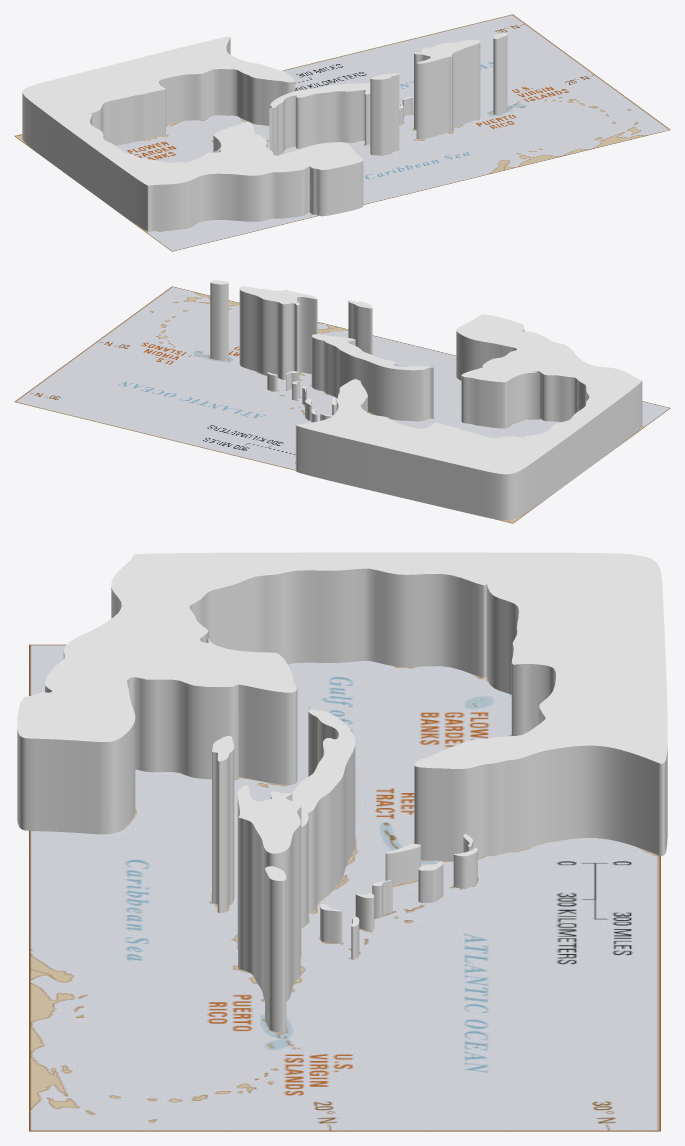
The model's file is Level design model 1.fbx.
The picture shows the model from 3 angles, top to bottom: view 1: azimuth 30°, elevation 25°; view 2: azimuth 150°, elevation 25°; view 3: azimuth 270°, elevation 25°; orthographic projection. The views are drawn at different scales.
Parts seen in each view (by area): view 1: Layer 01, C:\Users\poory\Documents\UIC\UIC 2019 spring\another game cl; view 2: Layer 01, C:\Users\poory\Documents\UIC\UIC 2019 spring\another game cl; view 3: C:\Users\poory\Documents\UIC\UIC 2019 spring\another game cl, Layer 01.
Boxes of the visible parts, bbox=[...] form: Layer 01: bbox=[22, 32, 507, 231]; C:\Users\poory\Documents\UIC\UIC 2019 spring\another game cl: bbox=[14, 14, 670, 251]; Layer 01: bbox=[210, 280, 642, 520]; C:\Users\poory\Documents\UIC\UIC 2019 spring\another game cl: bbox=[14, 286, 670, 523]; C:\Users\poory\Documents\UIC\UIC 2019 spring\another game cl: bbox=[29, 644, 660, 1131]; Layer 01: bbox=[17, 552, 667, 1032].
Bounding box in the file's own units: 74.74 × 42.2 × 10.85.
Materials: 2 (1 with a texture image).
